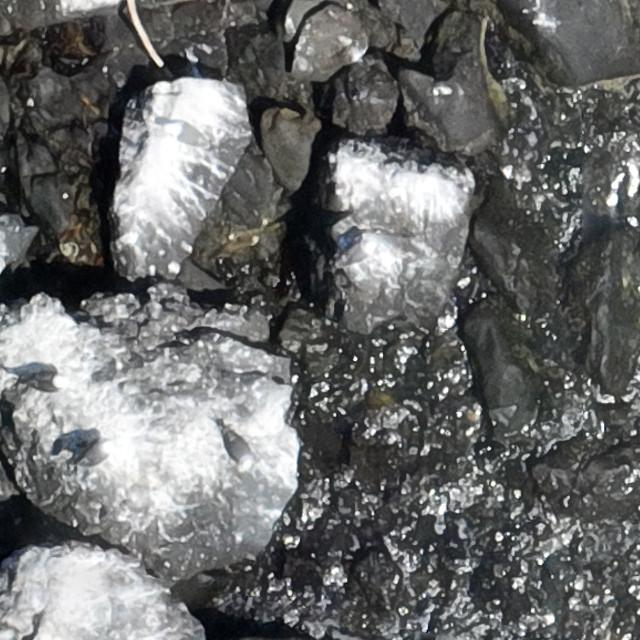umineko: (336, 233, 375, 271), (72, 441, 118, 468), (225, 432, 253, 466), (27, 372, 63, 390)
